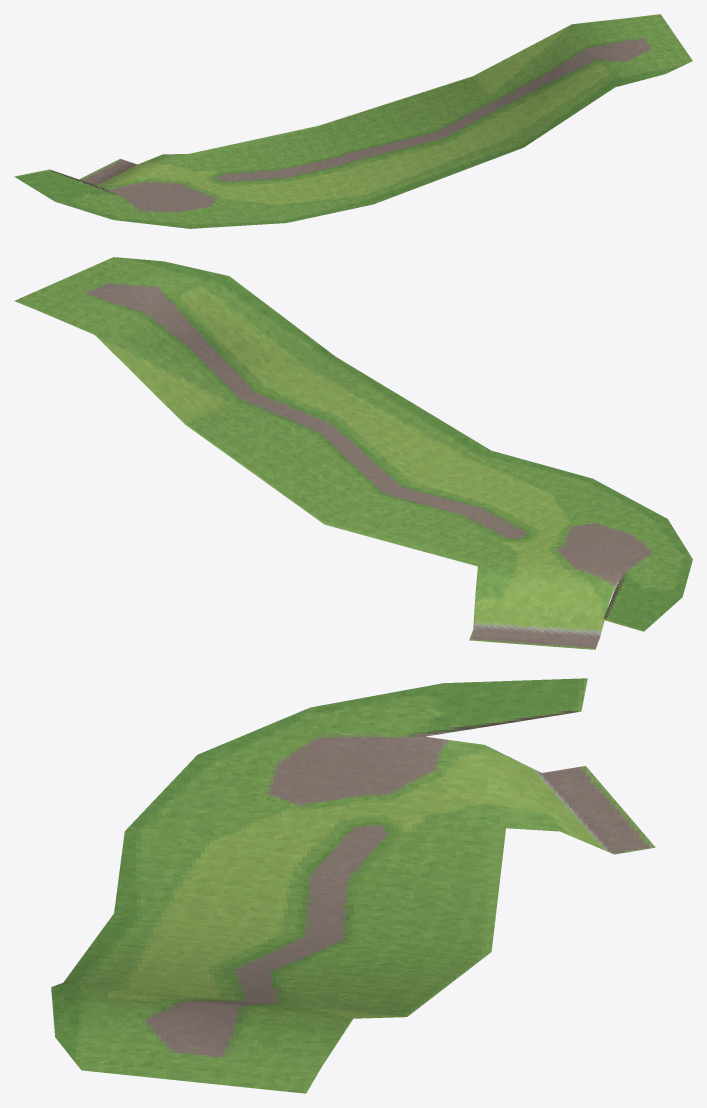
Rendered from kd_stage_1366d7_21_3.glb.
3 renders of one model, top to bottom at view 1: azimuth 30°, elevation 25°; view 2: azimuth 150°, elevation 25°; view 3: azimuth 270°, elevation 25°, orthographic. The views are drawn at different scales.
Parts seen in each view (by area): view 1: kd_stage_1366d7_21_3; view 2: kd_stage_1366d7_21_3; view 3: kd_stage_1366d7_21_3.
Part boxes in pixels (box(x1,y1,x2,y2)): kd_stage_1366d7_21_3: box(14, 14, 692, 228); kd_stage_1366d7_21_3: box(14, 257, 692, 649); kd_stage_1366d7_21_3: box(51, 678, 655, 1093).
Bounding box in the file's own units: 148 × 24.02 × 67.14.
1 material, 1 textured.
